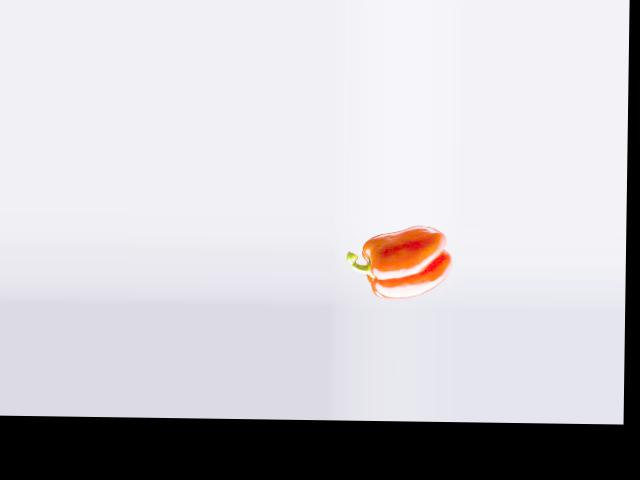bell_pepper: (344, 223, 449, 303)
